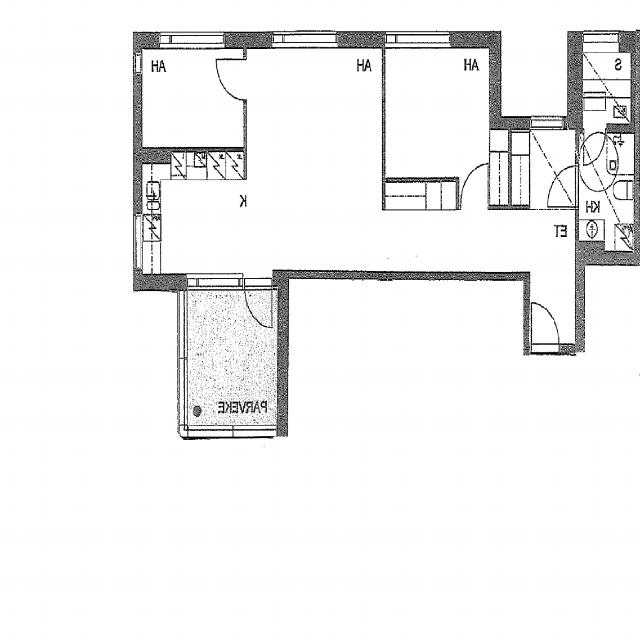door: (244, 272, 272, 331), (532, 302, 560, 352), (548, 166, 579, 207), (461, 163, 488, 210), (216, 60, 247, 100), (584, 129, 606, 166)
